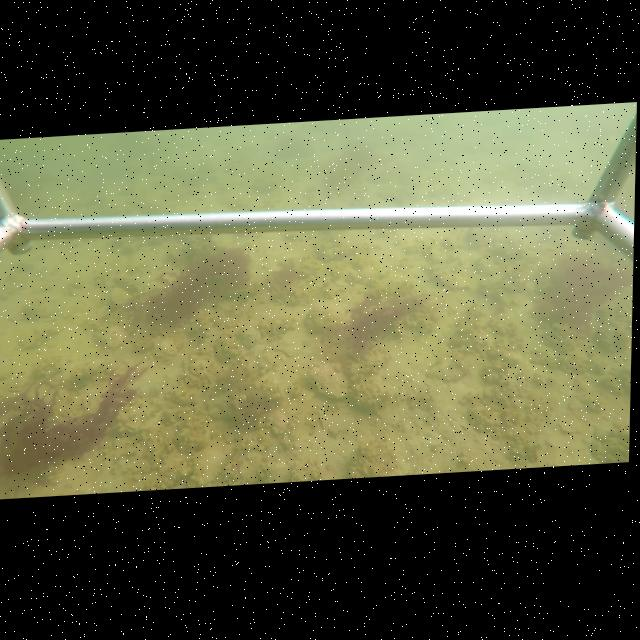Oyster-Closed: (301, 360, 351, 401)
